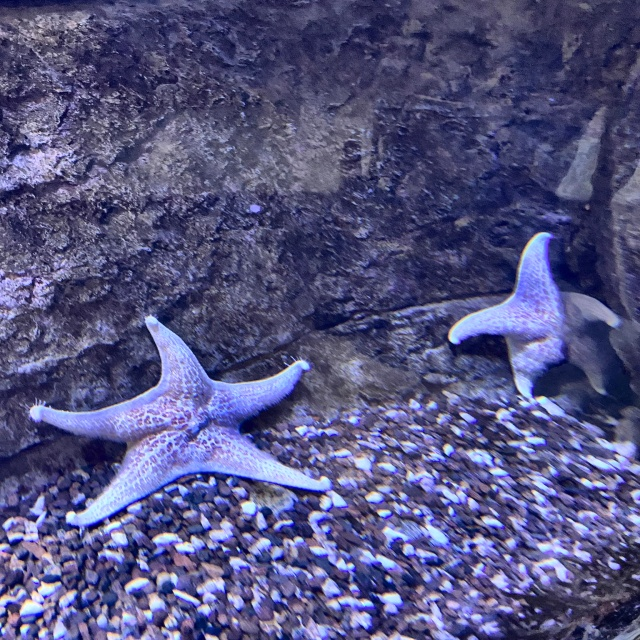starfish: (29, 315, 329, 528), (450, 232, 619, 401)
